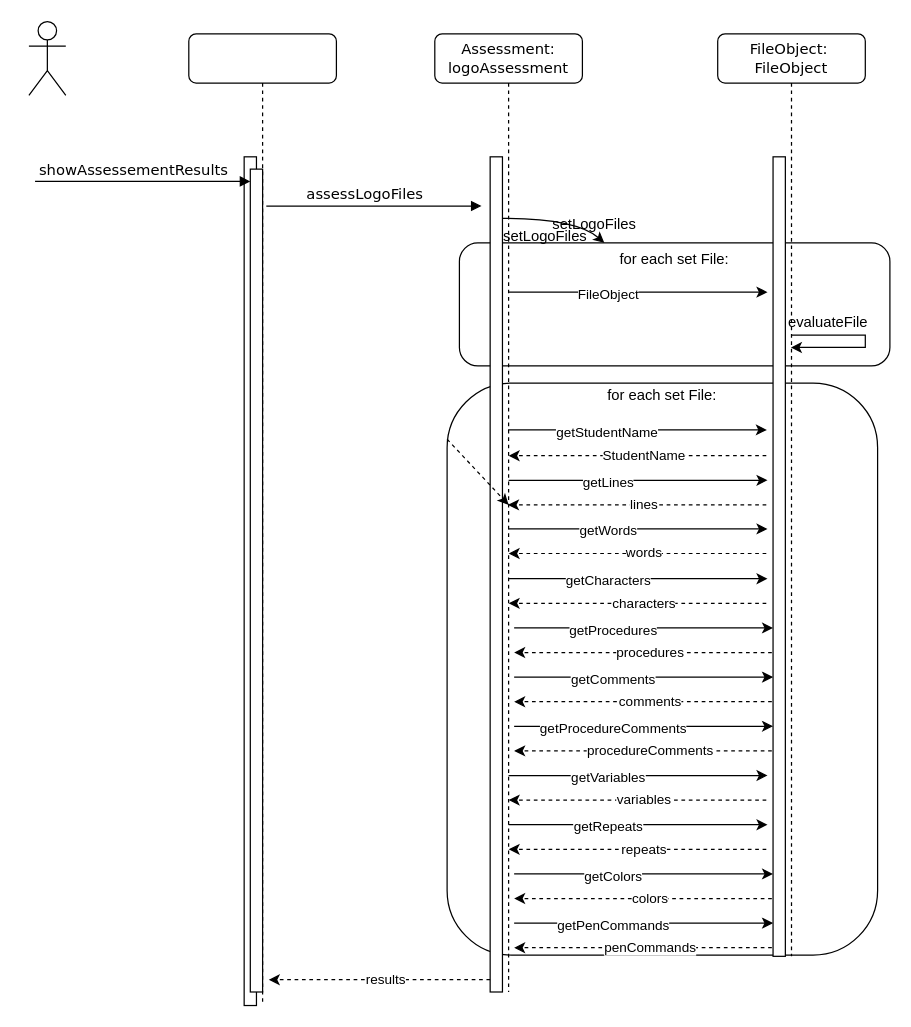
Some shapes in this 911 by 1027 pixel diagram are drawn without their labels. Each missing label, with the centre of its shape:
"Teacher" belongs at [47,57].
"ui: Screen class gradeScreen" belongs at [262,519].
